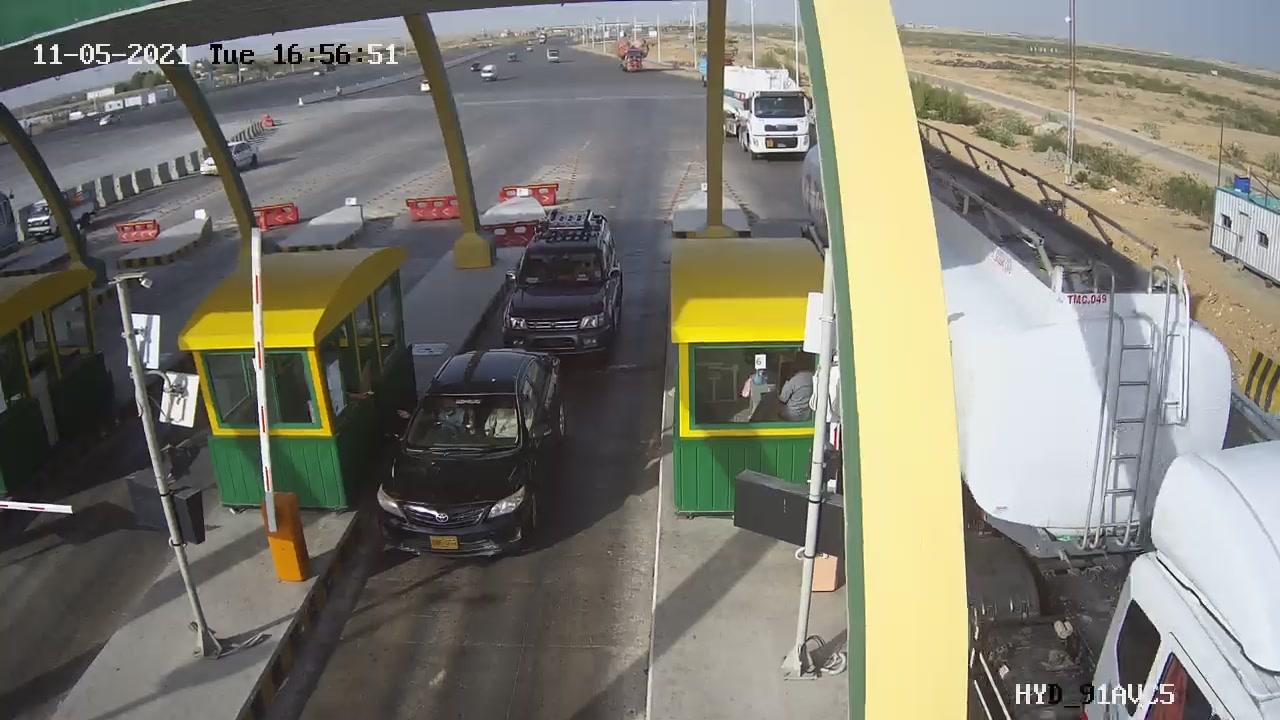F1: (358, 329, 592, 580), (478, 194, 642, 375)
